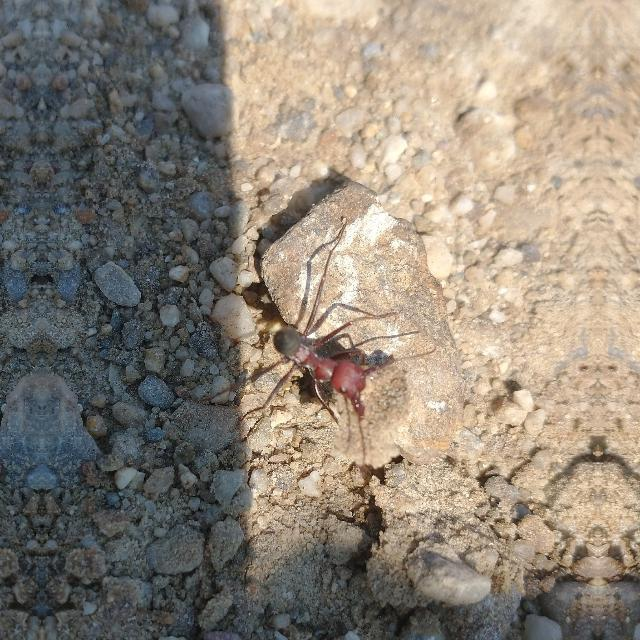Cataglyphis: (250, 296, 384, 432)
